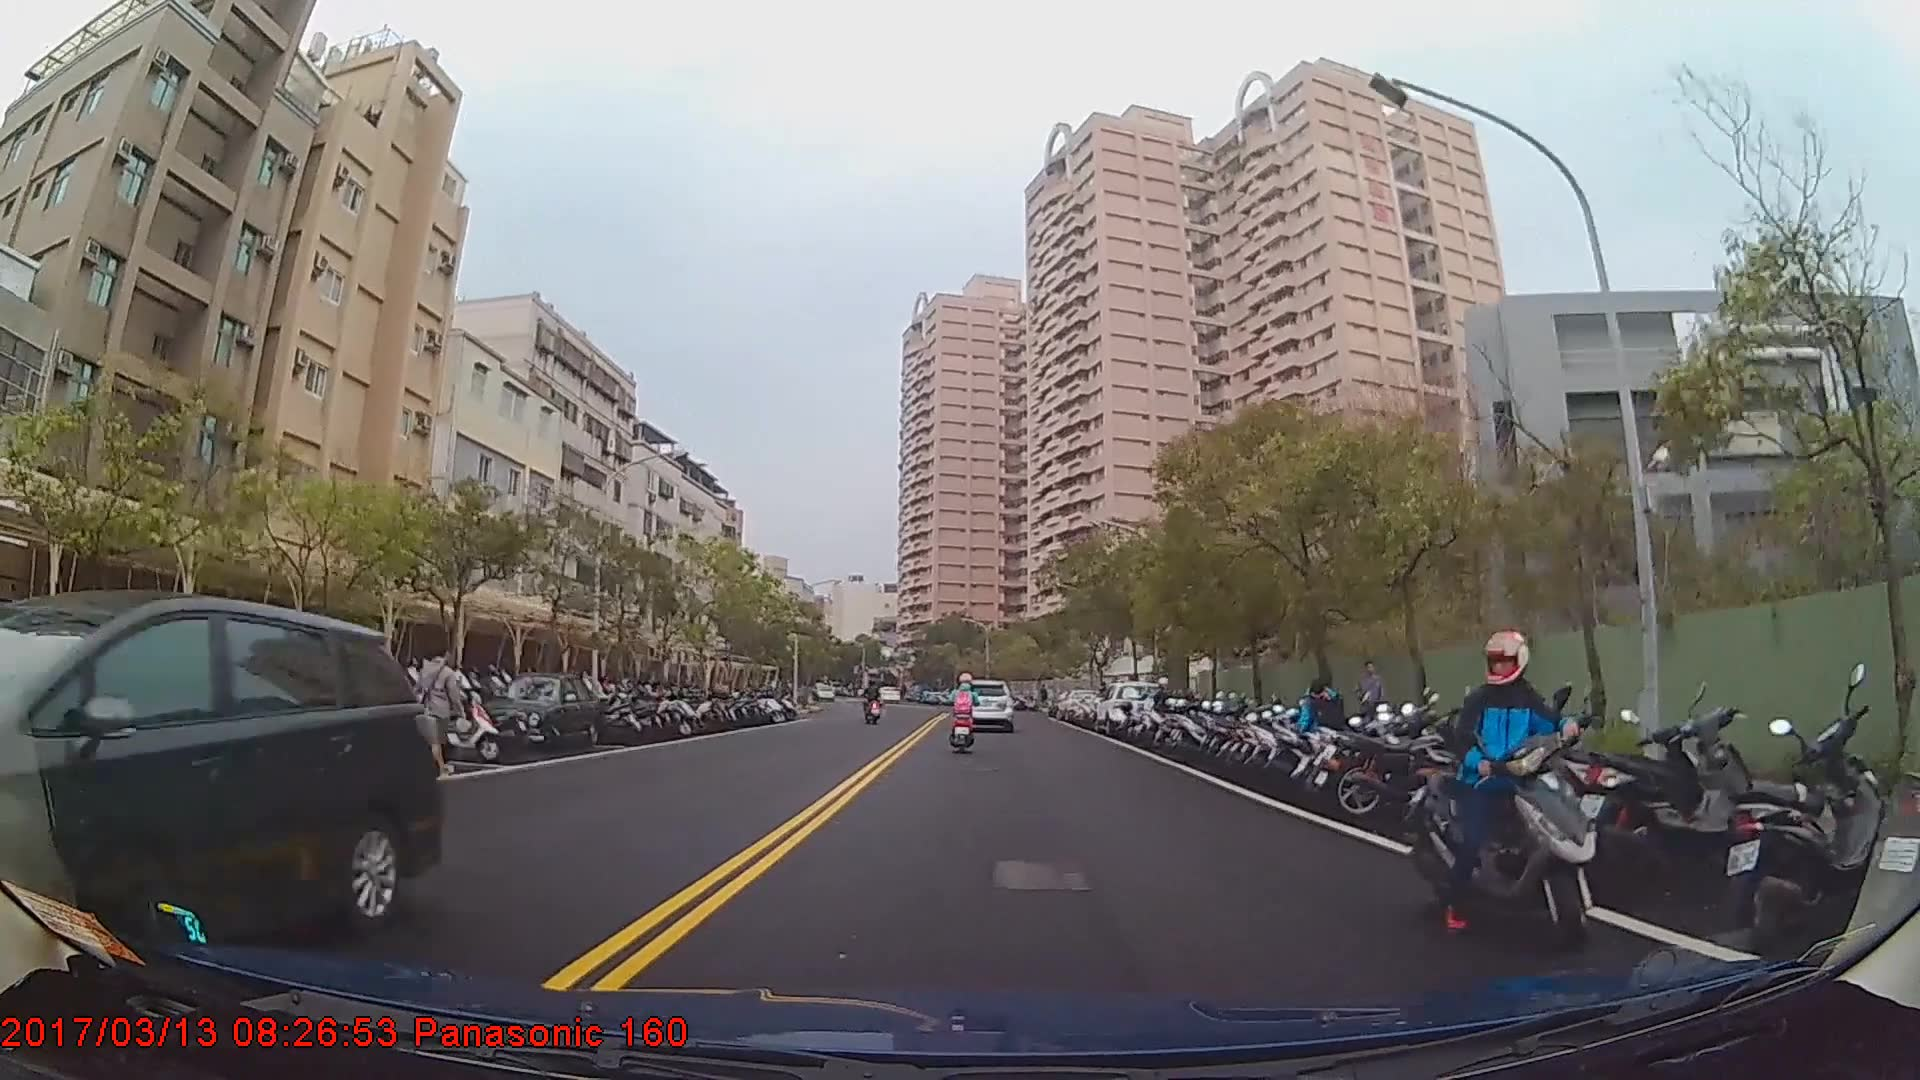pedestrian: (1295, 677, 1347, 781), (1351, 657, 1388, 753)
rider: (1429, 627, 1584, 944), (948, 673, 981, 750), (862, 680, 883, 723)
vehicle: (0, 587, 445, 976), (475, 670, 602, 756), (1094, 678, 1171, 736), (958, 675, 1014, 726)
